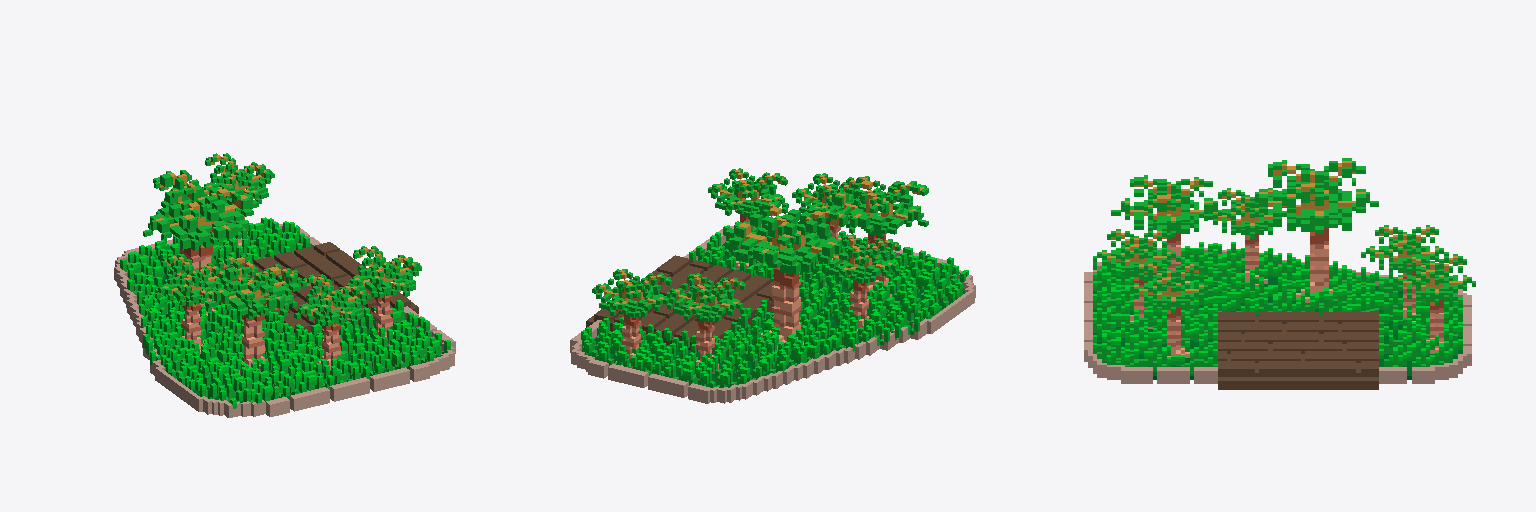
3 views of the same model, side by side, from view 1: azimuth 30°, elevation 25°; view 2: azimuth 150°, elevation 25°; view 3: azimuth 270°, elevation 25° (orthographic).
Visible parts, largest first — view 1: object 1; view 2: object 1; view 3: object 1.
Boxes of the visible parts, x1=… form: object 1: x1=114, y1=153, x2=455, y2=417; object 1: x1=570, y1=168, x2=975, y2=403; object 1: x1=1084, y1=158, x2=1475, y2=389.
Size of the model in its own units: 6.6 by 3.3 by 8.5.
1 materials, 1 textured.